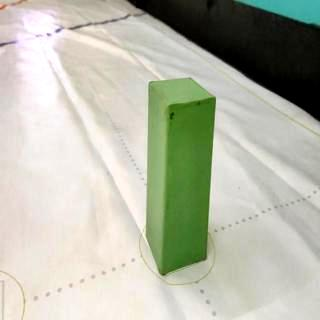greenbox: (147, 76, 217, 276)
